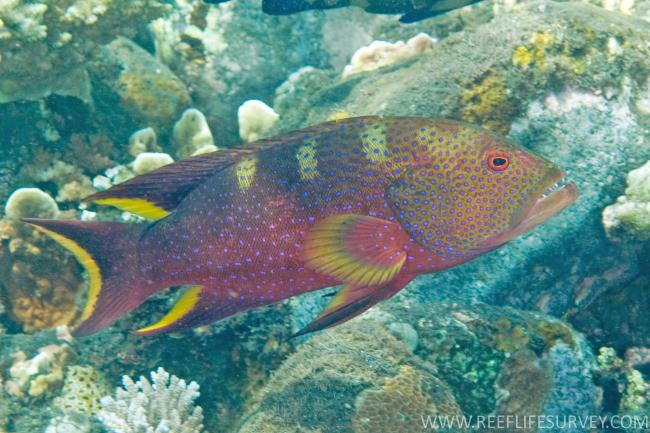fish: (21, 116, 579, 340)
